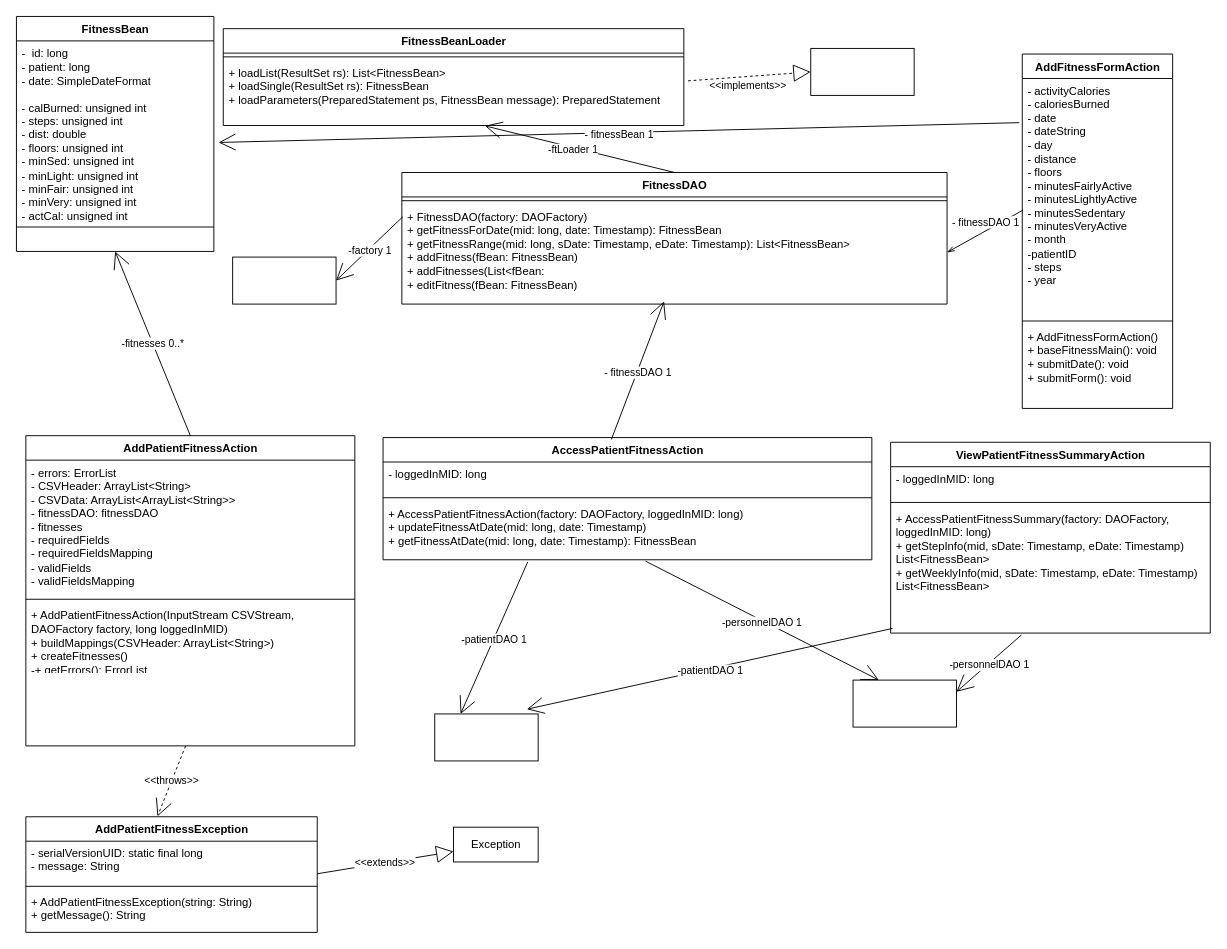
Some shapes in this 1227 by 949 pixel diagram are drawn without their labels. The shapes that lost their labels are listed below. From the top down, each one's centre as x and y in pixels, then its label:
At pixel 862 71: "«interface» BeanLoader".
At pixel 284 280: "DAOFactory".
At pixel 904 703: "PersonnelDAO".
At pixel 486 737: "PatientDAO".
